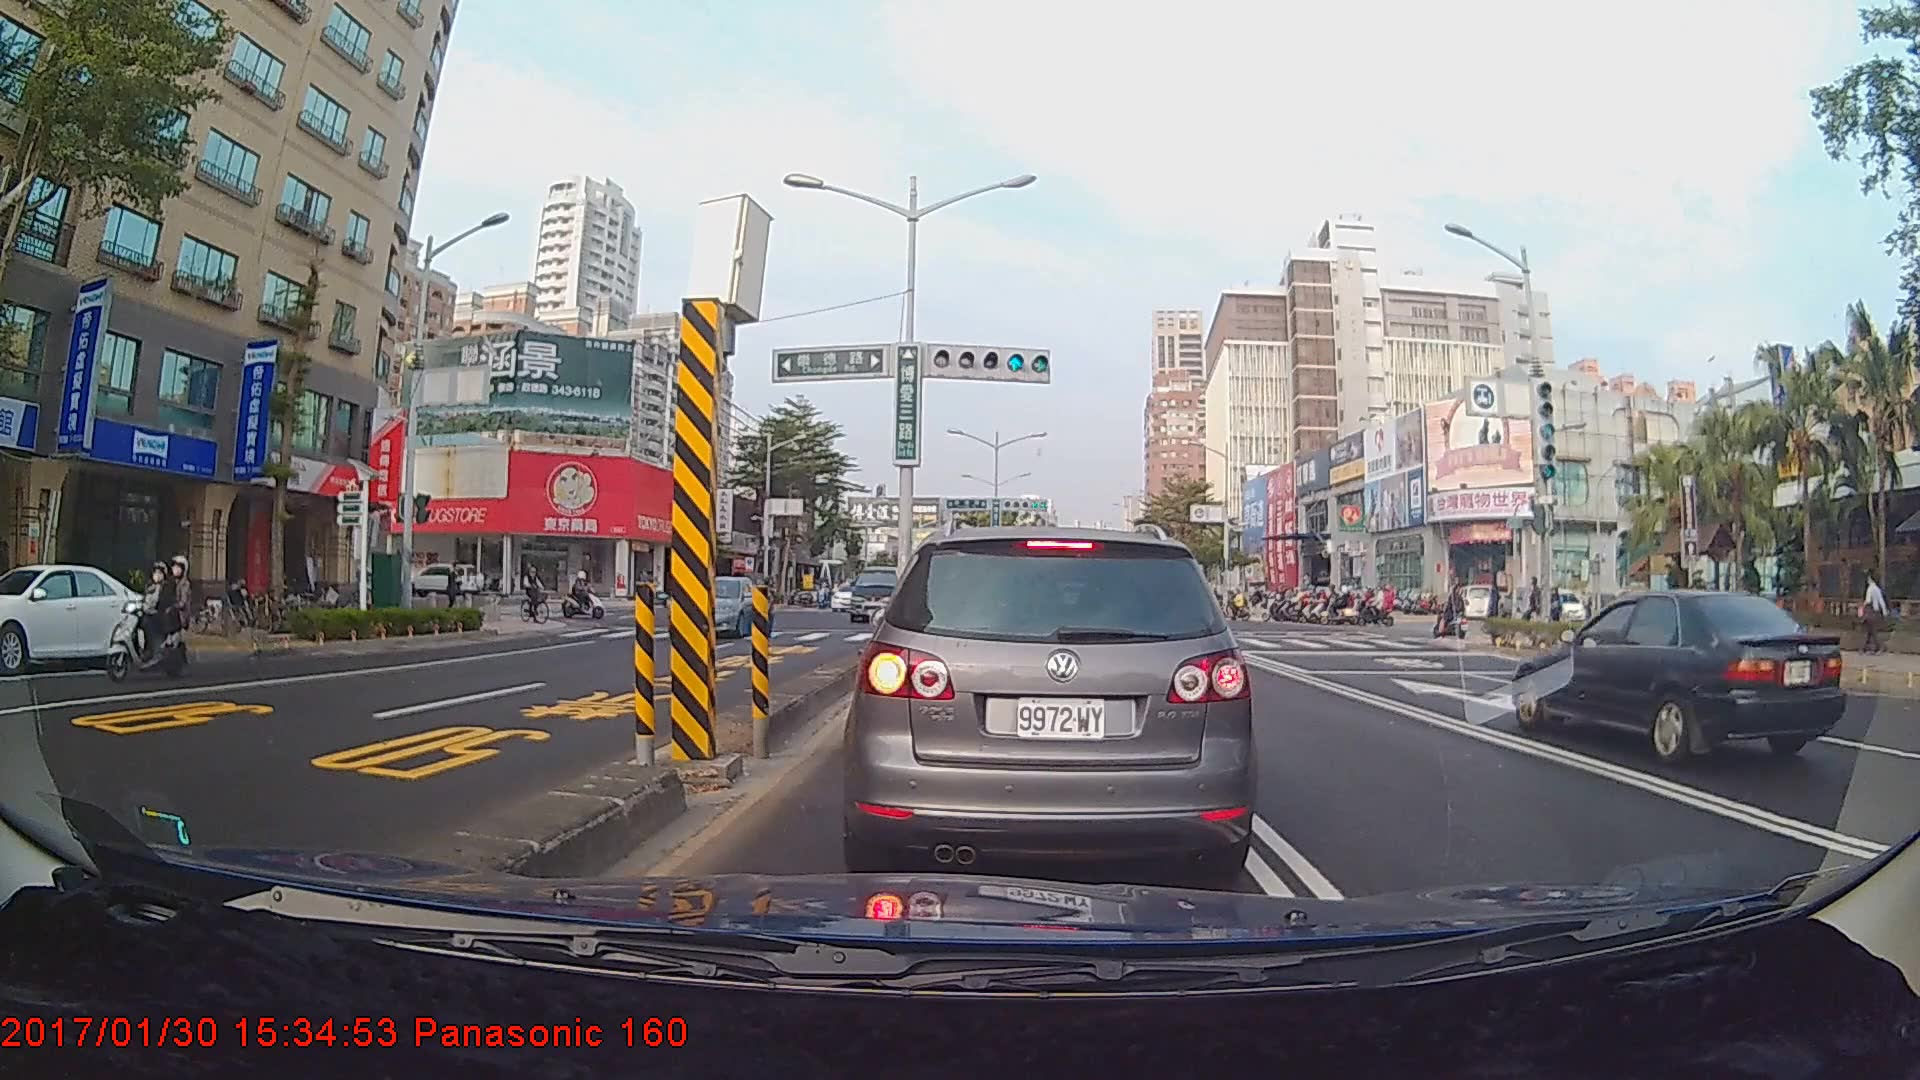pedestrian: (1865, 574, 1885, 655), (443, 558, 468, 621), (1484, 579, 1509, 637)
rider: (93, 554, 189, 688), (562, 568, 613, 625), (518, 559, 553, 629), (1436, 582, 1473, 646)
vehicle: (855, 524, 1248, 877), (1512, 585, 1847, 767), (0, 561, 157, 671), (668, 574, 768, 638), (847, 563, 907, 622), (829, 581, 865, 612)
